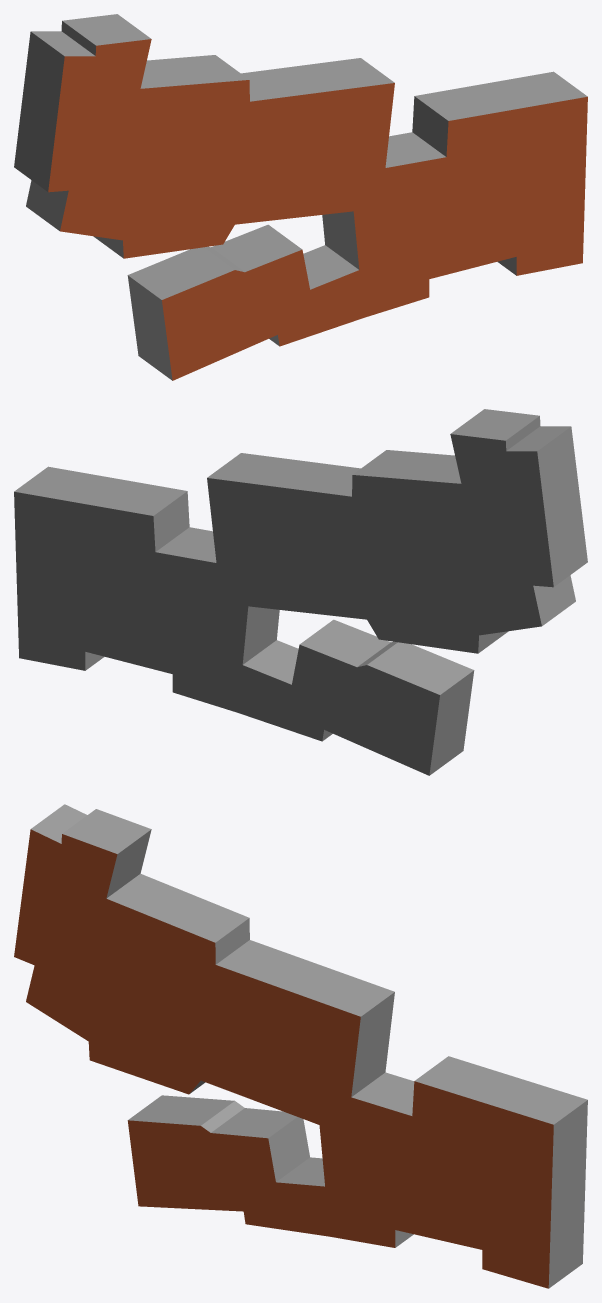
Rendered from construction_4355_assumed_A_Casa_h6m.obj.
The picture shows the model from 3 angles, top to bottom: view 1: azimuth 30°, elevation 25°; view 2: azimuth 150°, elevation 25°; view 3: azimuth 330°, elevation 25°; orthographic projection.
Parts seen in each view (by area): view 1: construction_4355_assumed_A_Casa; view 2: construction_4355_assumed_A_Casa; view 3: construction_4355_assumed_A_Casa.
Part boxes in pixels (x1,y1,x2,y2): construction_4355_assumed_A_Casa: [14, 14, 587, 380]; construction_4355_assumed_A_Casa: [14, 409, 587, 775]; construction_4355_assumed_A_Casa: [14, 804, 587, 1288].
Bounding box in the file's own units: 54.73 × 34.28 × 6.
